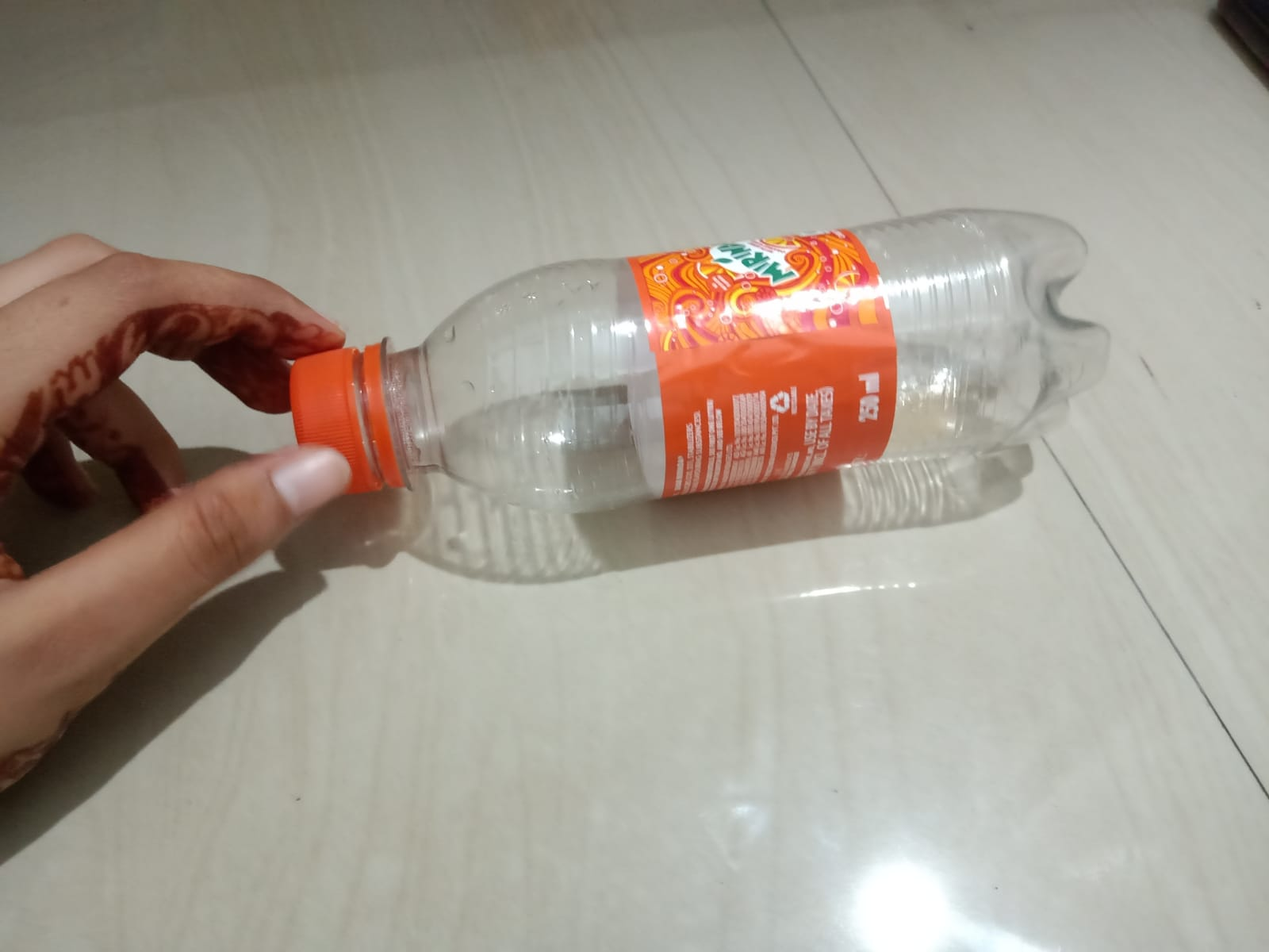plastic: (278, 196, 1121, 560)
